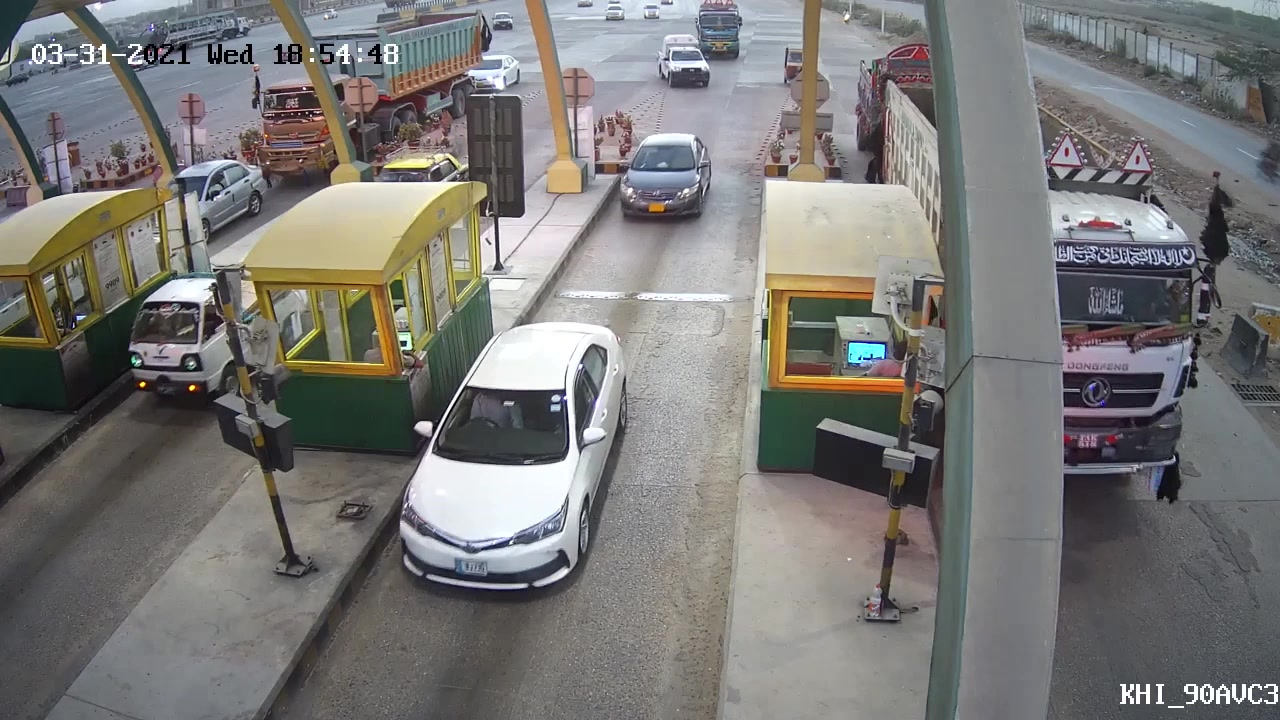F1: (396, 320, 634, 592), (615, 128, 714, 233)
